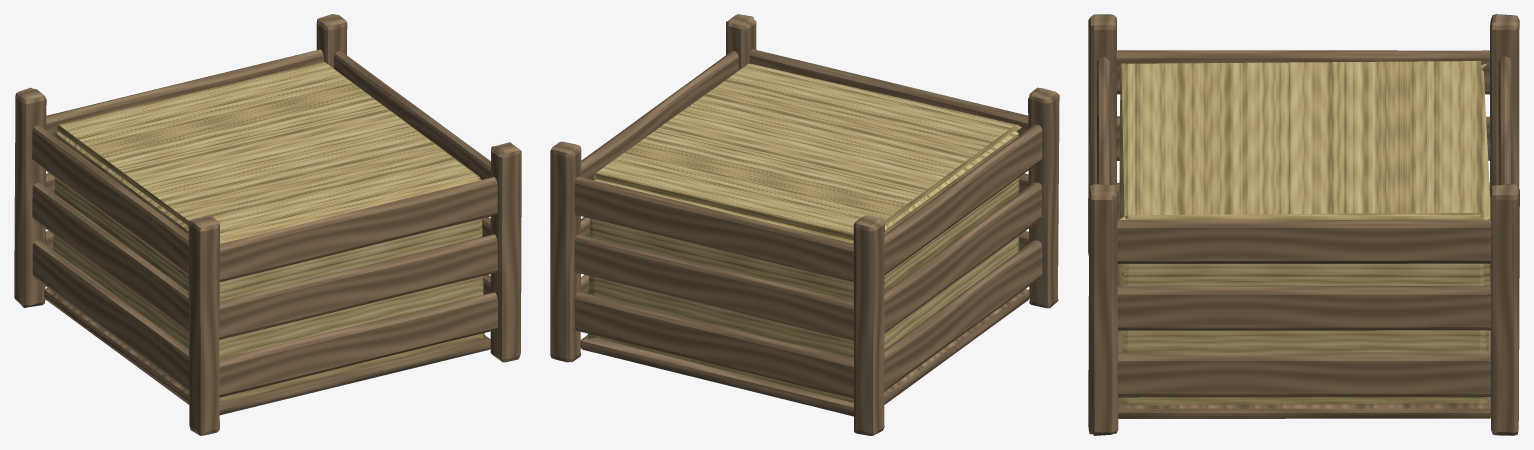
File: hay_crate.glb
The picture shows the model from 3 angles, left to right: view 1: azimuth 30°, elevation 25°; view 2: azimuth 150°, elevation 25°; view 3: azimuth 270°, elevation 25°; orthographic projection. The views are drawn at different scales.
Visible parts, largest first — view 1: HayCrate; view 2: HayCrate; view 3: HayCrate.
Part boxes in pixels (<box>): HayCrate: <box>14,14,521,435</box>; HayCrate: <box>550,14,1059,435</box>; HayCrate: <box>1088,14,1519,435</box>.
Size of the model in its own units: 0.9055 by 0.5649 by 0.9025.
Materials: 2 (2 with a texture image).
